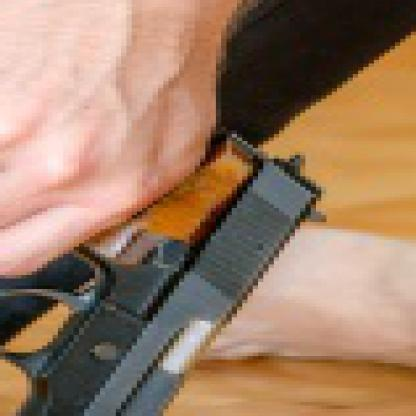gun: (0, 127, 337, 412)
